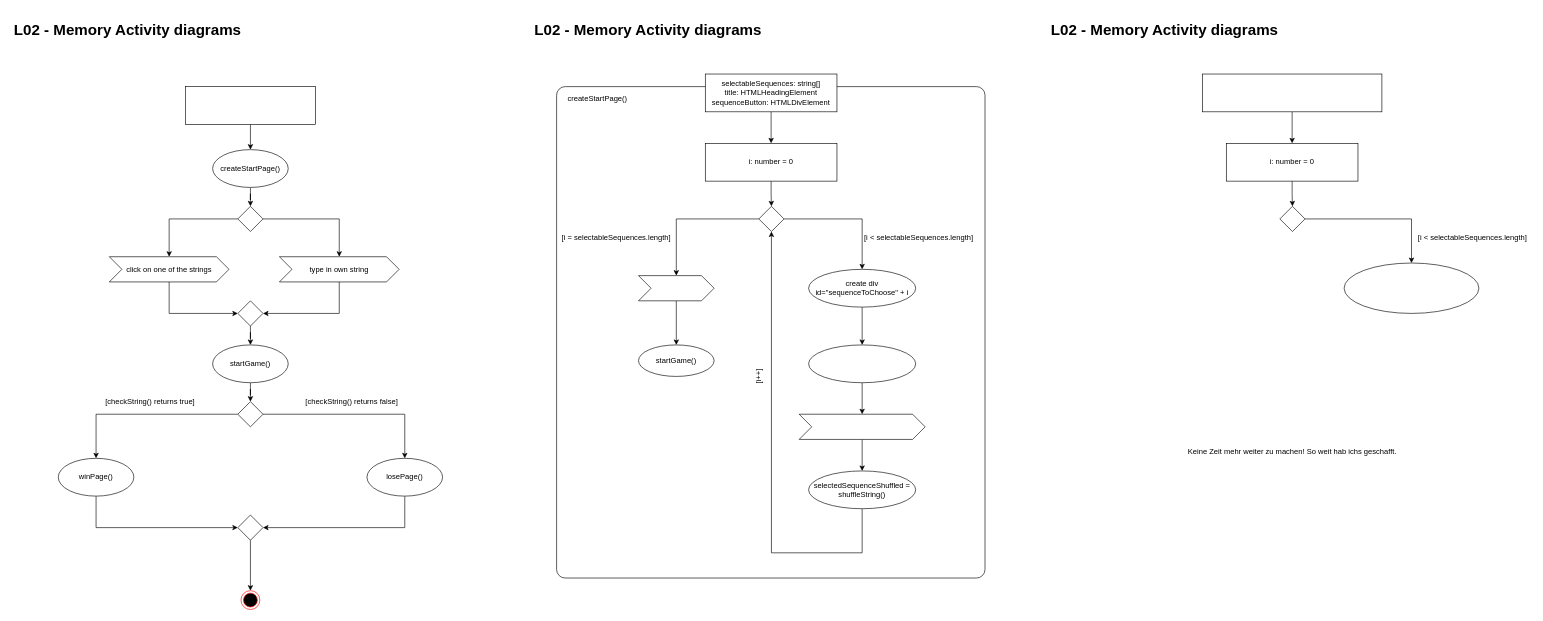
The diagram is 1543 pixels wide and 621 high, and some of its shapes have lost their labels. Each missing label, with the box of its shape:
create div id="selectedSequenceShuffled" + i class="memorycard": (1343, 262, 1479, 313)
fill innerHtml with selectableSequences[i]: (808, 344, 916, 383)
gamepage = createView("gamePage") seperatedSequenceButtons = HTMLDivElement: (1202, 73, 1382, 112)
on click gets innerHtml of div: (799, 414, 925, 439)
on click sequenceButton: (638, 275, 714, 301)
var selectedSequence: string var selectedSequenceShuffled: string: (185, 86, 315, 124)
